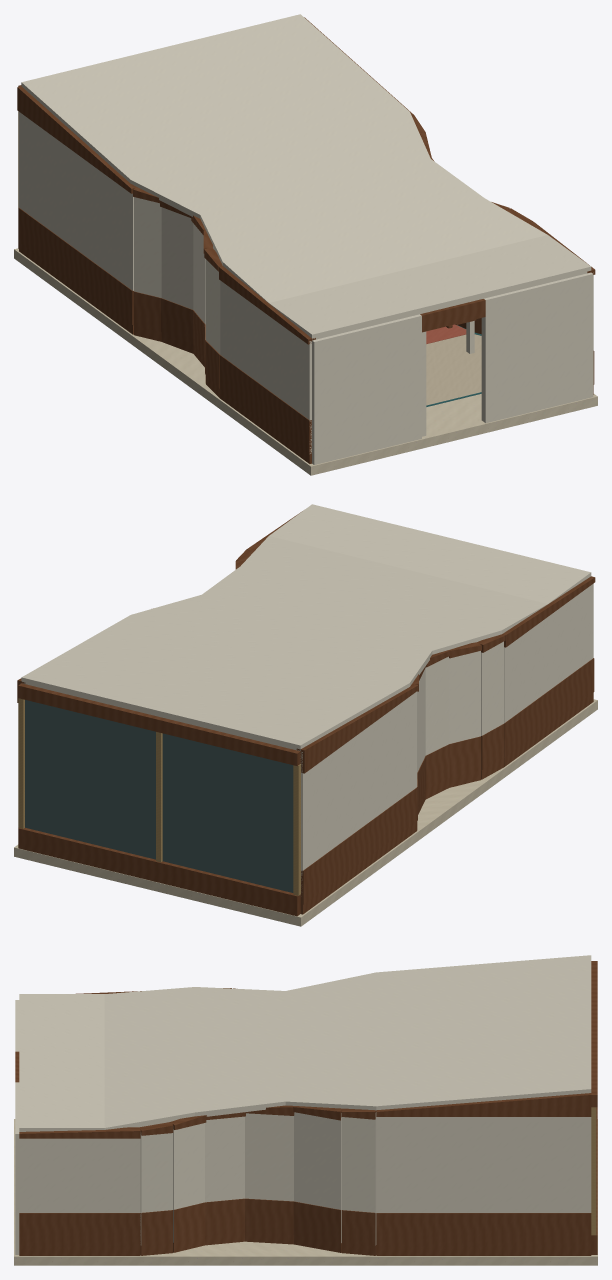
File: NG_r001__standard__nested_gallery__R.glb
3 renders of one model, top to bottom at view 1: azimuth 30°, elevation 25°; view 2: azimuth 150°, elevation 25°; view 3: azimuth 270°, elevation 25°, orthographic.
Visible parts, largest first — view 1: NIGHT_GARDENRoomBatch_2, NIGHT_GARDENRoomBatch_1, NIGHT_GARDENRoomBatch_0, NIGHT_GARDENRoomBatch_3; view 2: NIGHT_GARDENRoomBatch_2, NIGHT_GARDENRoomBatch_6, NIGHT_GARDENRoomBatch_1, NIGHT_GARDENRoomBatch_0, NIGHT_GARDENRoomBatch_5; view 3: NIGHT_GARDENRoomBatch_2, NIGHT_GARDENRoomBatch_1, NIGHT_GARDENRoomBatch_0, NIGHT_GARDENRoomBatch_5.
Boxes of the visible parts, bbox=[...] form: NIGHT_GARDENRoomBatch_2: bbox=[19, 14, 593, 464]; NIGHT_GARDENRoomBatch_1: bbox=[17, 17, 595, 463]; NIGHT_GARDENRoomBatch_0: bbox=[14, 248, 597, 475]; NIGHT_GARDENRoomBatch_3: bbox=[213, 248, 481, 405]; NIGHT_GARDENRoomBatch_2: bbox=[21, 504, 593, 885]; NIGHT_GARDENRoomBatch_6: bbox=[25, 700, 293, 892]; NIGHT_GARDENRoomBatch_1: bbox=[17, 511, 595, 916]; NIGHT_GARDENRoomBatch_0: bbox=[14, 699, 597, 926]; NIGHT_GARDENRoomBatch_5: bbox=[18, 698, 300, 895]; NIGHT_GARDENRoomBatch_2: bbox=[15, 955, 591, 1254]; NIGHT_GARDENRoomBatch_1: bbox=[15, 961, 597, 1255]; NIGHT_GARDENRoomBatch_0: bbox=[14, 1119, 597, 1265]; NIGHT_GARDENRoomBatch_5: bbox=[591, 1107, 596, 1235].
Bounding box in the file's own units: 7.2 × 4.26 × 12.9.
Materials: 65 (58 with a texture image).
